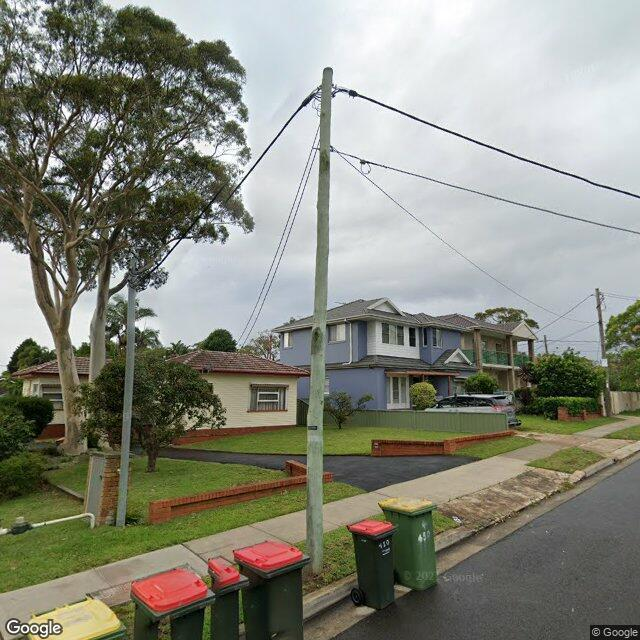steel-pole: (115, 256, 137, 529)
timber-pole: (308, 67, 334, 580), (596, 287, 606, 358)
